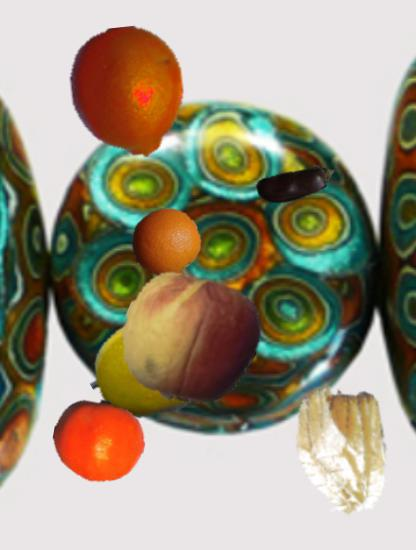Apple: (121, 272, 257, 408)
Clementine: (53, 395, 145, 487)
Eggplant: (255, 142, 340, 227)
Maracuja: (90, 305, 214, 429)
Orange: (131, 207, 201, 277)
Physalis: (275, 384, 408, 517)
Tangelo: (61, 27, 193, 159)
